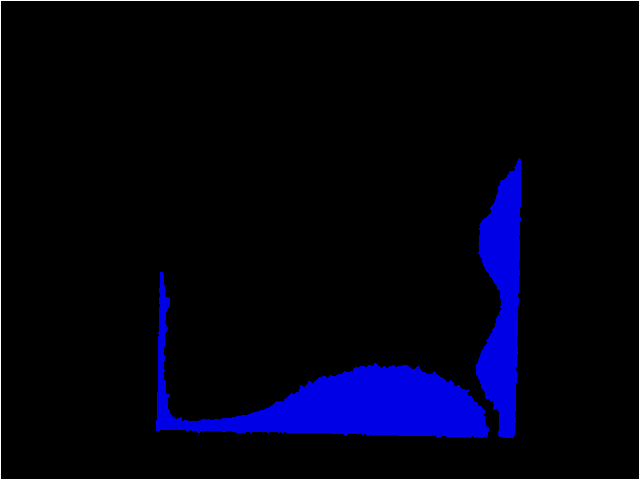defect: (155, 269, 491, 439), (475, 158, 523, 439)
